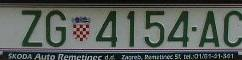-: (191, 24, 198, 33)
1: (126, 10, 135, 48)
4: (95, 10, 119, 48), (168, 10, 190, 47)
5: (144, 10, 165, 48)
A: (200, 10, 220, 47)
C: (224, 10, 242, 47)
G: (46, 10, 66, 48)
Z: (21, 10, 44, 47)
